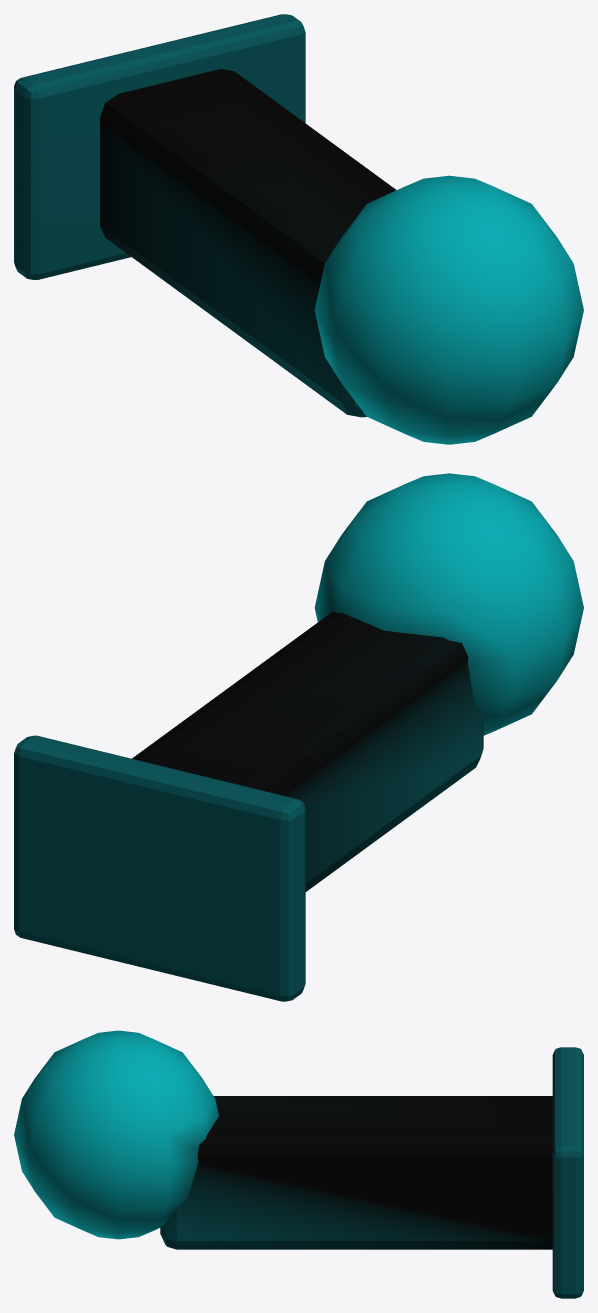
The model's file is part_hitch.glb.
3 views of the same model, one above another, from view 1: azimuth 30°, elevation 25°; view 2: azimuth 150°, elevation 25°; view 3: azimuth 270°, elevation 25° (orthographic). The views are drawn at different scales.
Parts seen in each view (by area): view 1: part_hitch; view 2: part_hitch; view 3: part_hitch.
Boxes of the visible parts, x1,y1,x2,y2 form: part_hitch: (14, 14, 583, 444); part_hitch: (14, 473, 583, 1001); part_hitch: (14, 1030, 583, 1298).
Bounding box in the file's own units: 0.12 × 0.11 × 0.2725.
1 material, 1 textured.
